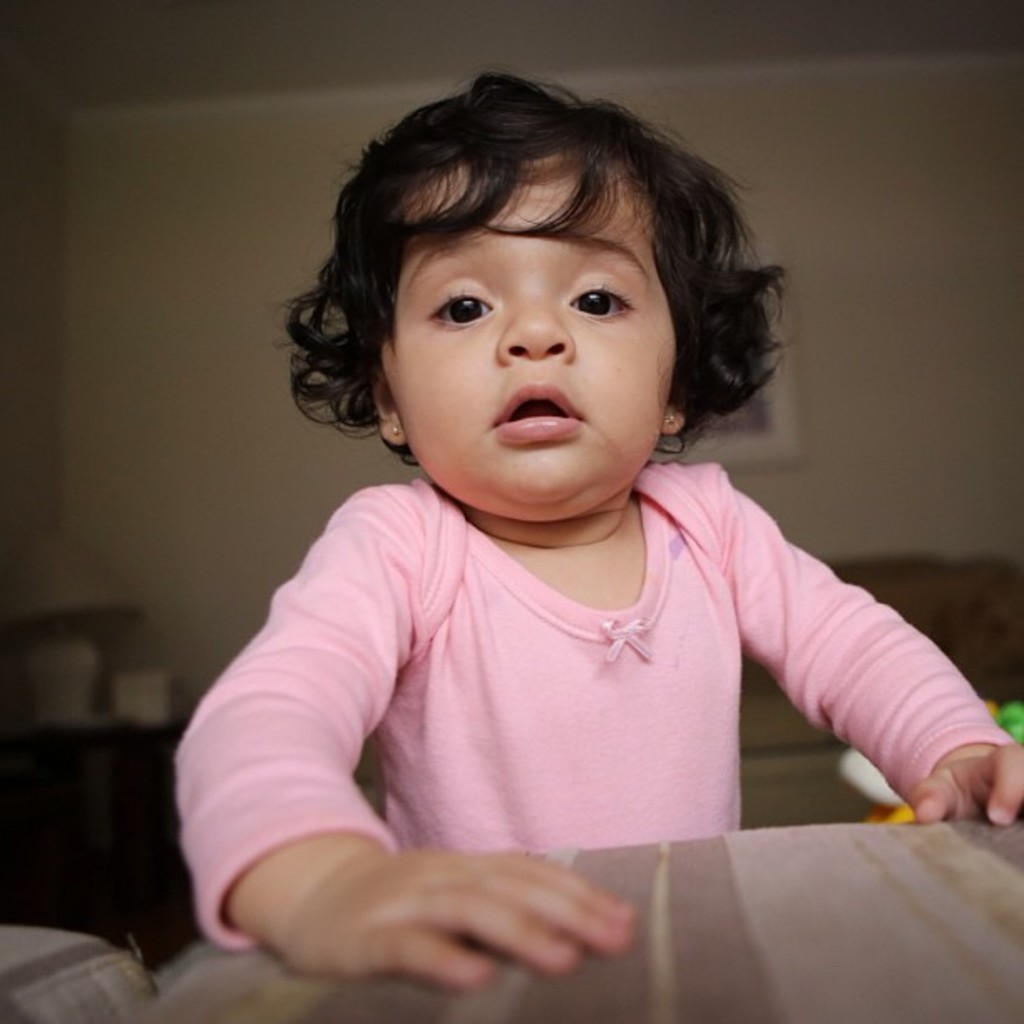Human_hand: (308, 825, 673, 992), (909, 743, 1022, 832)
